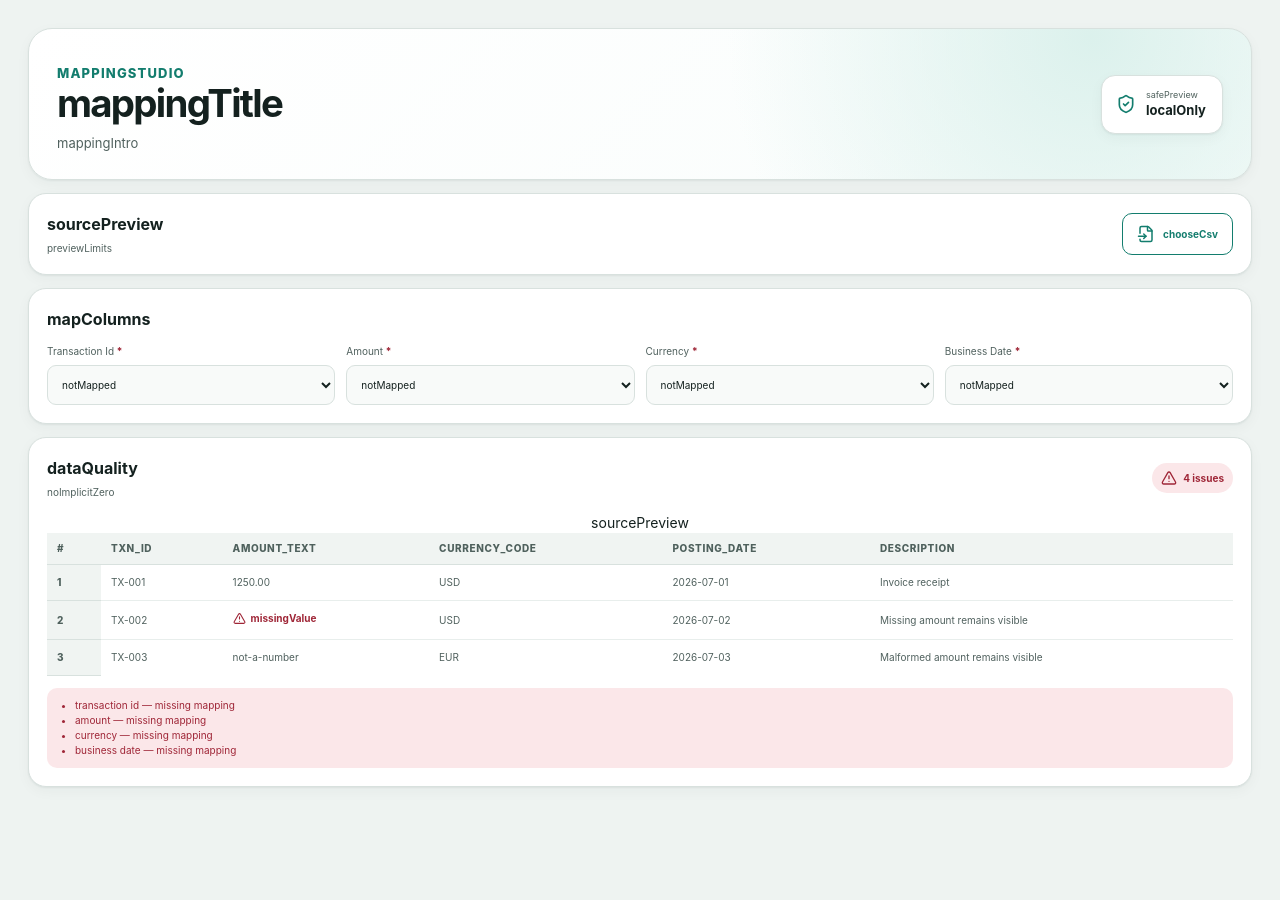
Test: MappingStudio › exposes a labelled keyboard-native mapping flow and visible quality errors
Expected: the heading "mappingTitle" is shown, [57, 83, 282, 125]
Expected: the dropdown labelled "amount *" is enabled, [346, 365, 635, 405]
Select "txn_id" in the dropdown labelled "transaction id *". click: (191, 385)
box: [47, 365, 335, 405]
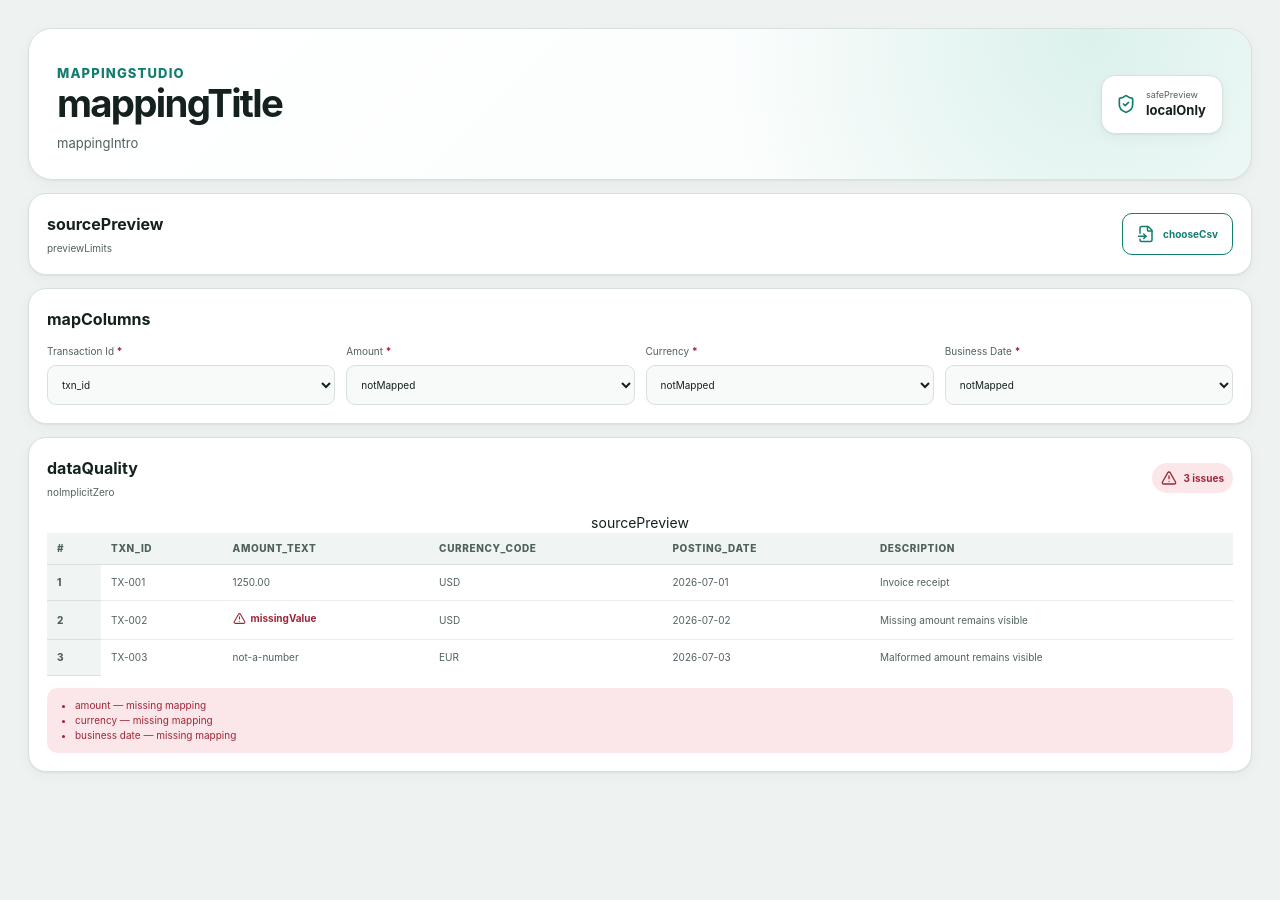
Select "amount_text" in the dropdown labelled "amount *". click: (490, 385)
box: [346, 365, 635, 405]
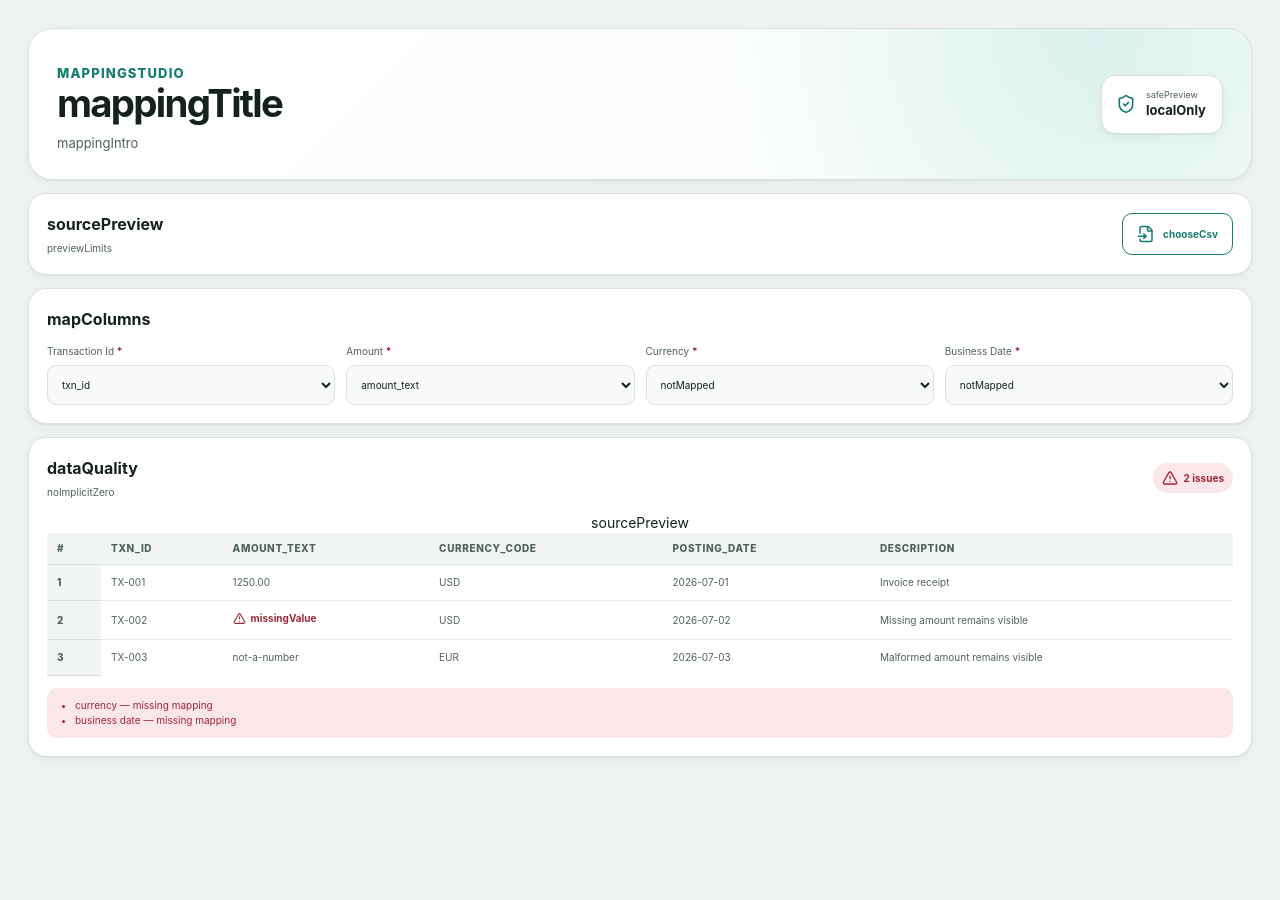
Select "currency_code" in the dropdown labelled "currency *". click: (790, 385)
box: [646, 365, 934, 405]
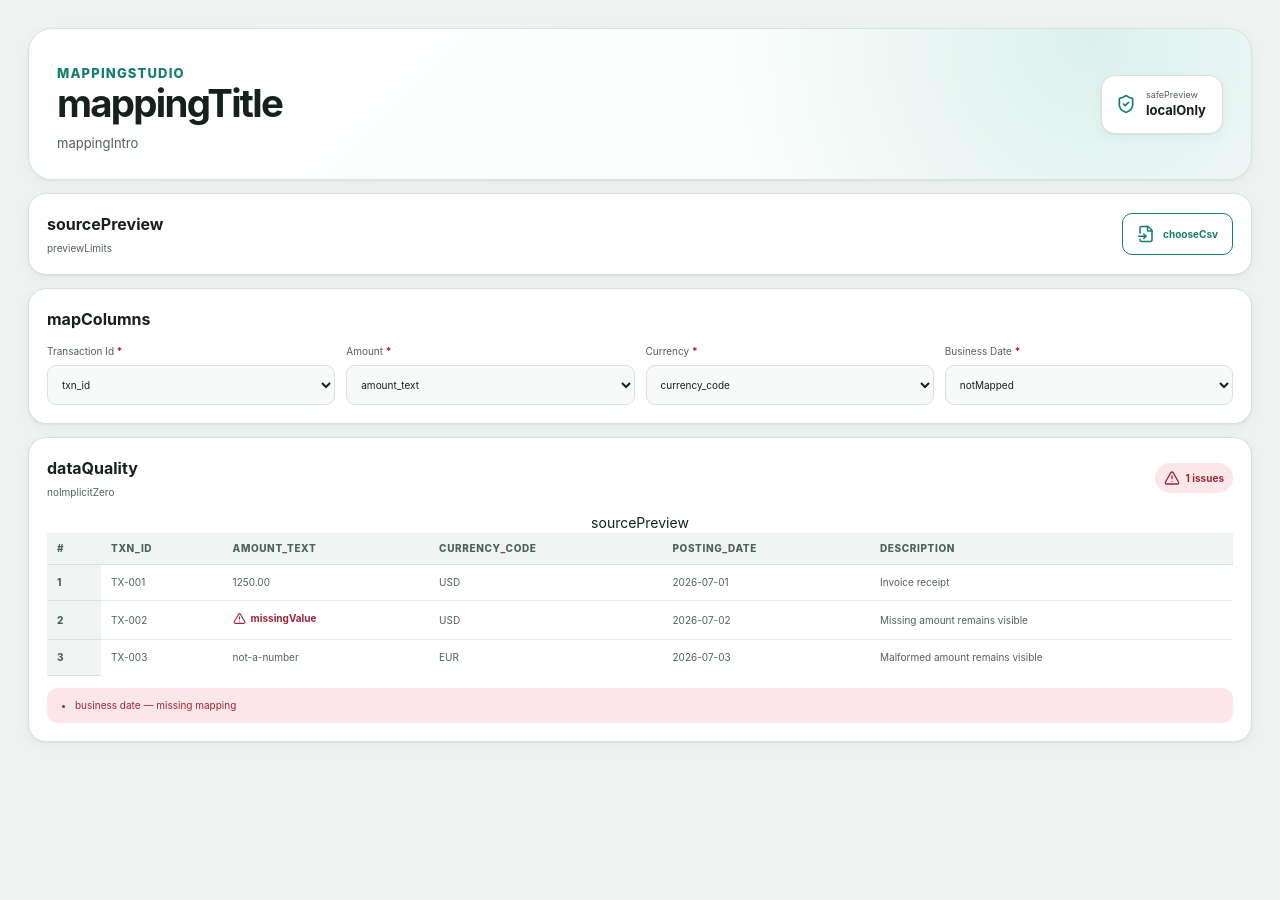
Select "posting_date" in the dropdown labelled "business date *". click: (1089, 385)
box: [945, 365, 1233, 405]
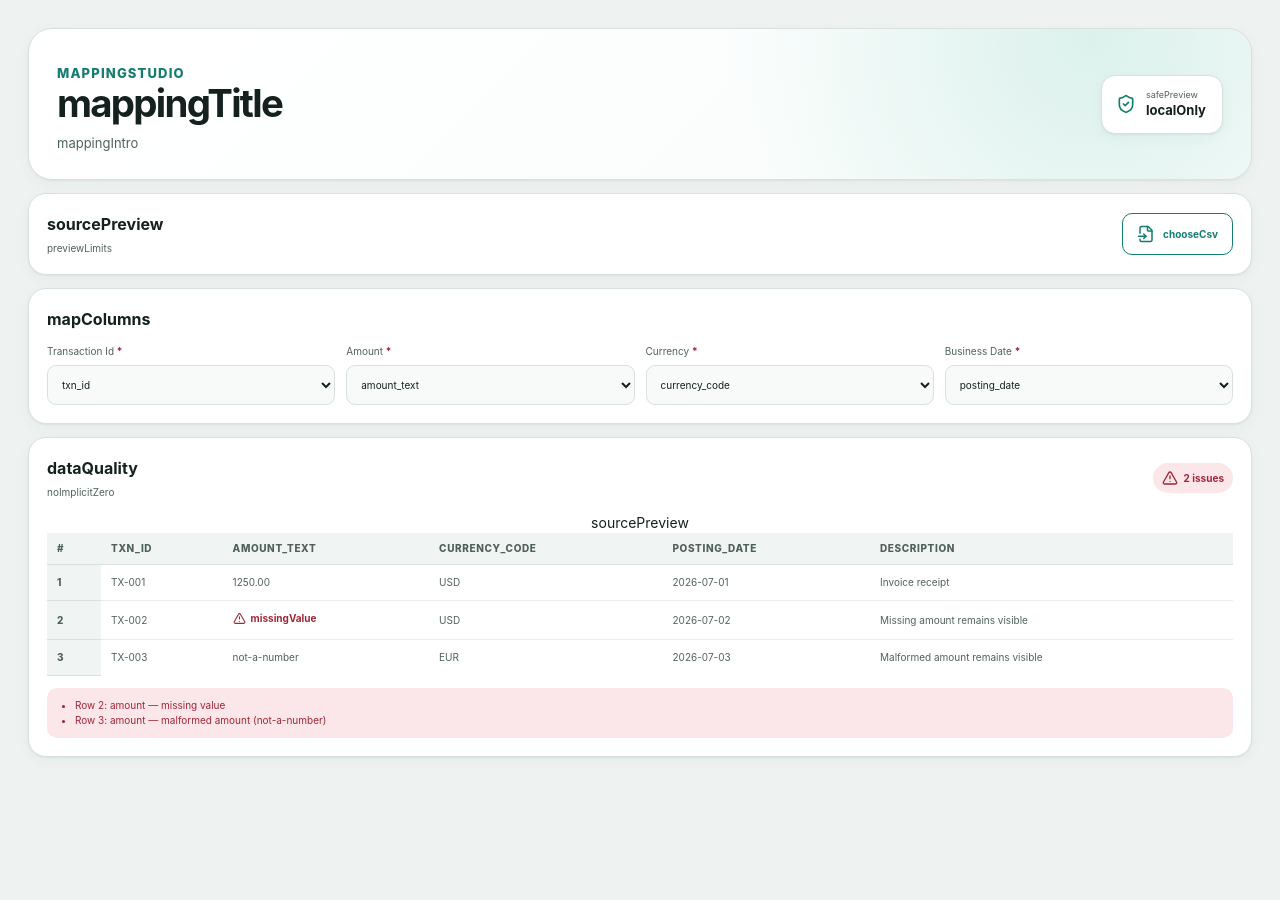
Now the text "2 issues" is shown, box [1153, 463, 1233, 493]
Now the list item "Row 2: amount — missing value" is shown, box [75, 698, 225, 710]
Now the list item "Row 3: amount — malformed amount (not-a-number)" is shown, box [75, 714, 326, 726]
